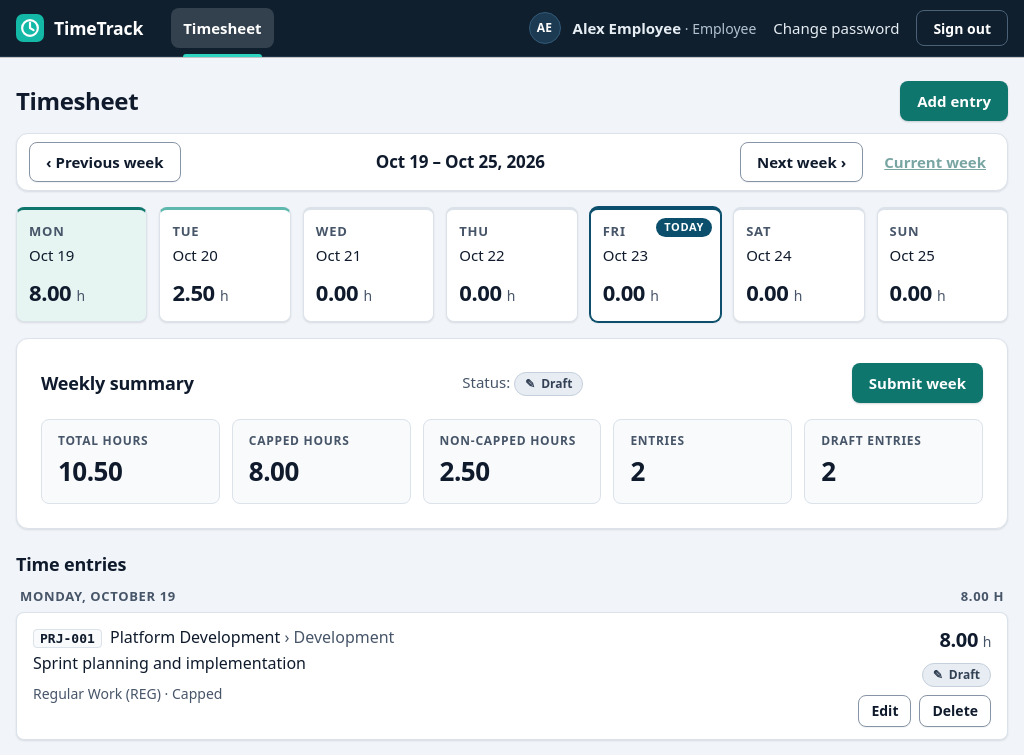
Test case: Submit week dialog › sends nothing when cancelled
Click the button "Submit week": (917, 383) left=852, top=363, right=983, bottom=403
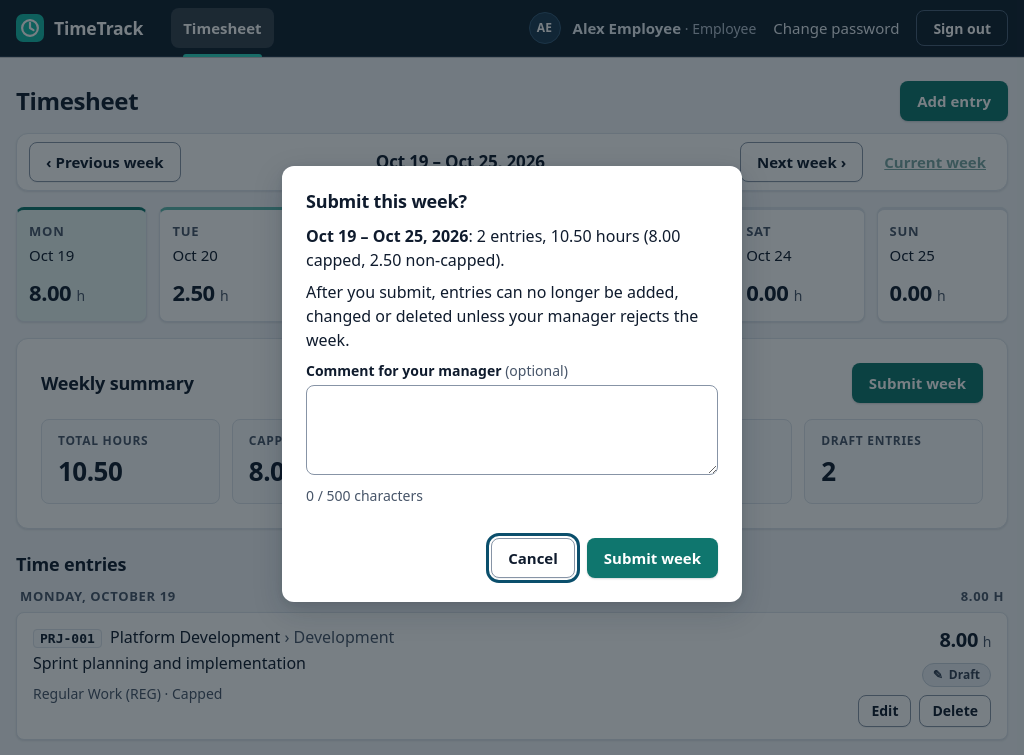
Click the button "Cancel": (533, 558) left=491, top=538, right=575, bottom=578
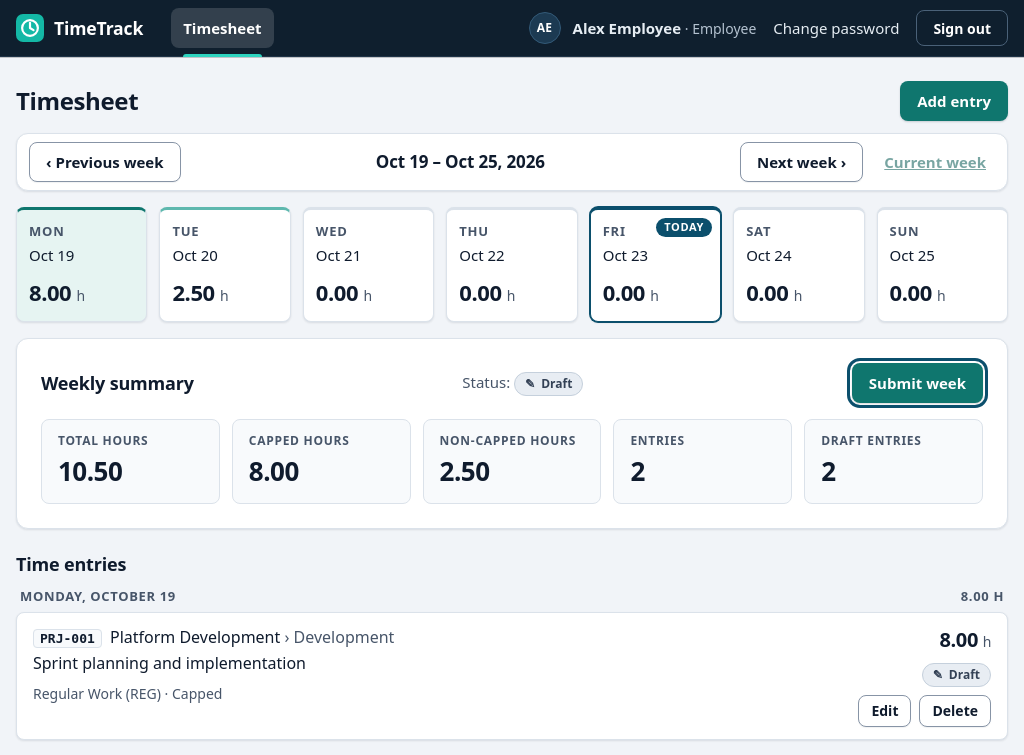
Now the dialog is gone
